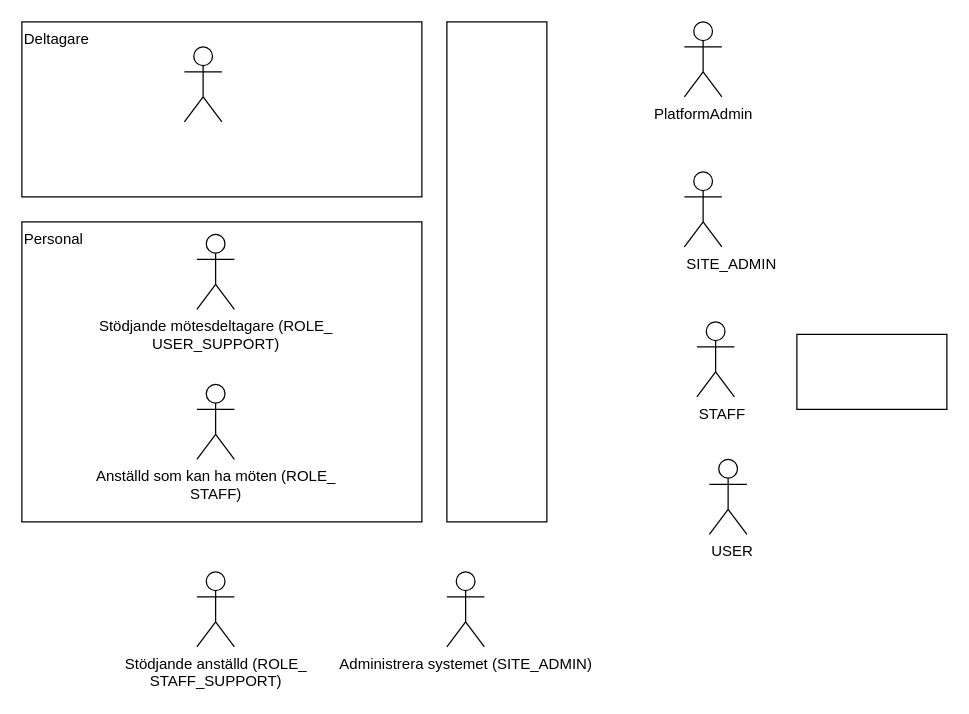
This 969x714 diagram has some shape labels left out. The centre of each missing label's shape, as x and y in pixels:
Kan var med i möten: pixel 496 271
Mötesdeltagare (ROLE_USER): pixel 202 84
Skapa möte Delta i möte: pixel 871 371
